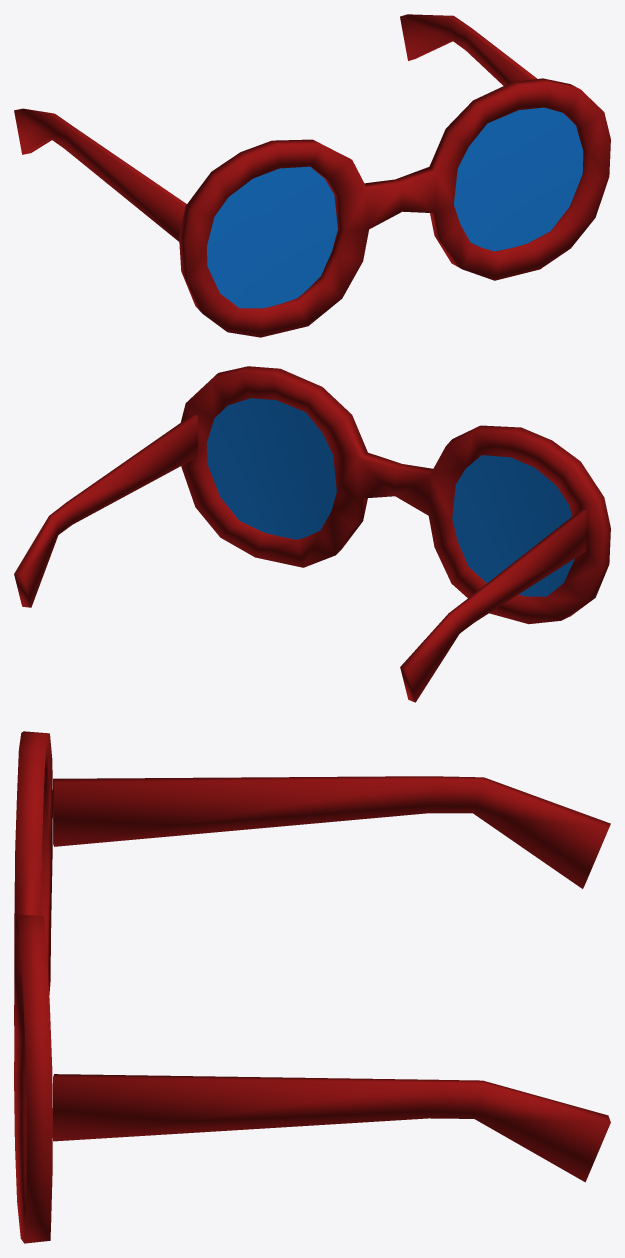
File: Spects_7.FBX
3 views of the same model, one above another, from view 1: azimuth 30°, elevation 25°; view 2: azimuth 150°, elevation 25°; view 3: azimuth 270°, elevation 25° (orthographic). The views are drawn at different scales.
Visible parts, largest first — view 1: Head_dakskinned_final; view 2: Head_dakskinned_final; view 3: Head_dakskinned_final.
Part boxes in pixels (bbox=[...]): Head_dakskinned_final: bbox=[14, 14, 610, 337]; Head_dakskinned_final: bbox=[14, 366, 610, 702]; Head_dakskinned_final: bbox=[14, 731, 610, 1243].
Size of the model in its own units: 27.5 by 11.57 by 21.48.
